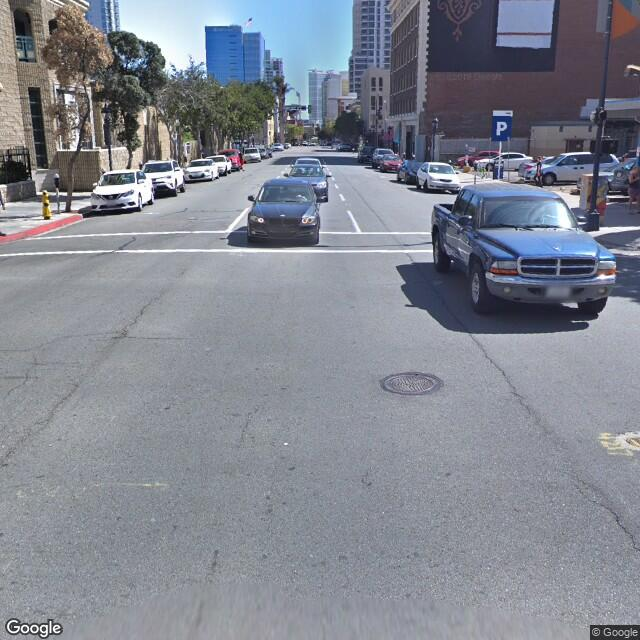road line: (338, 190, 364, 231)
